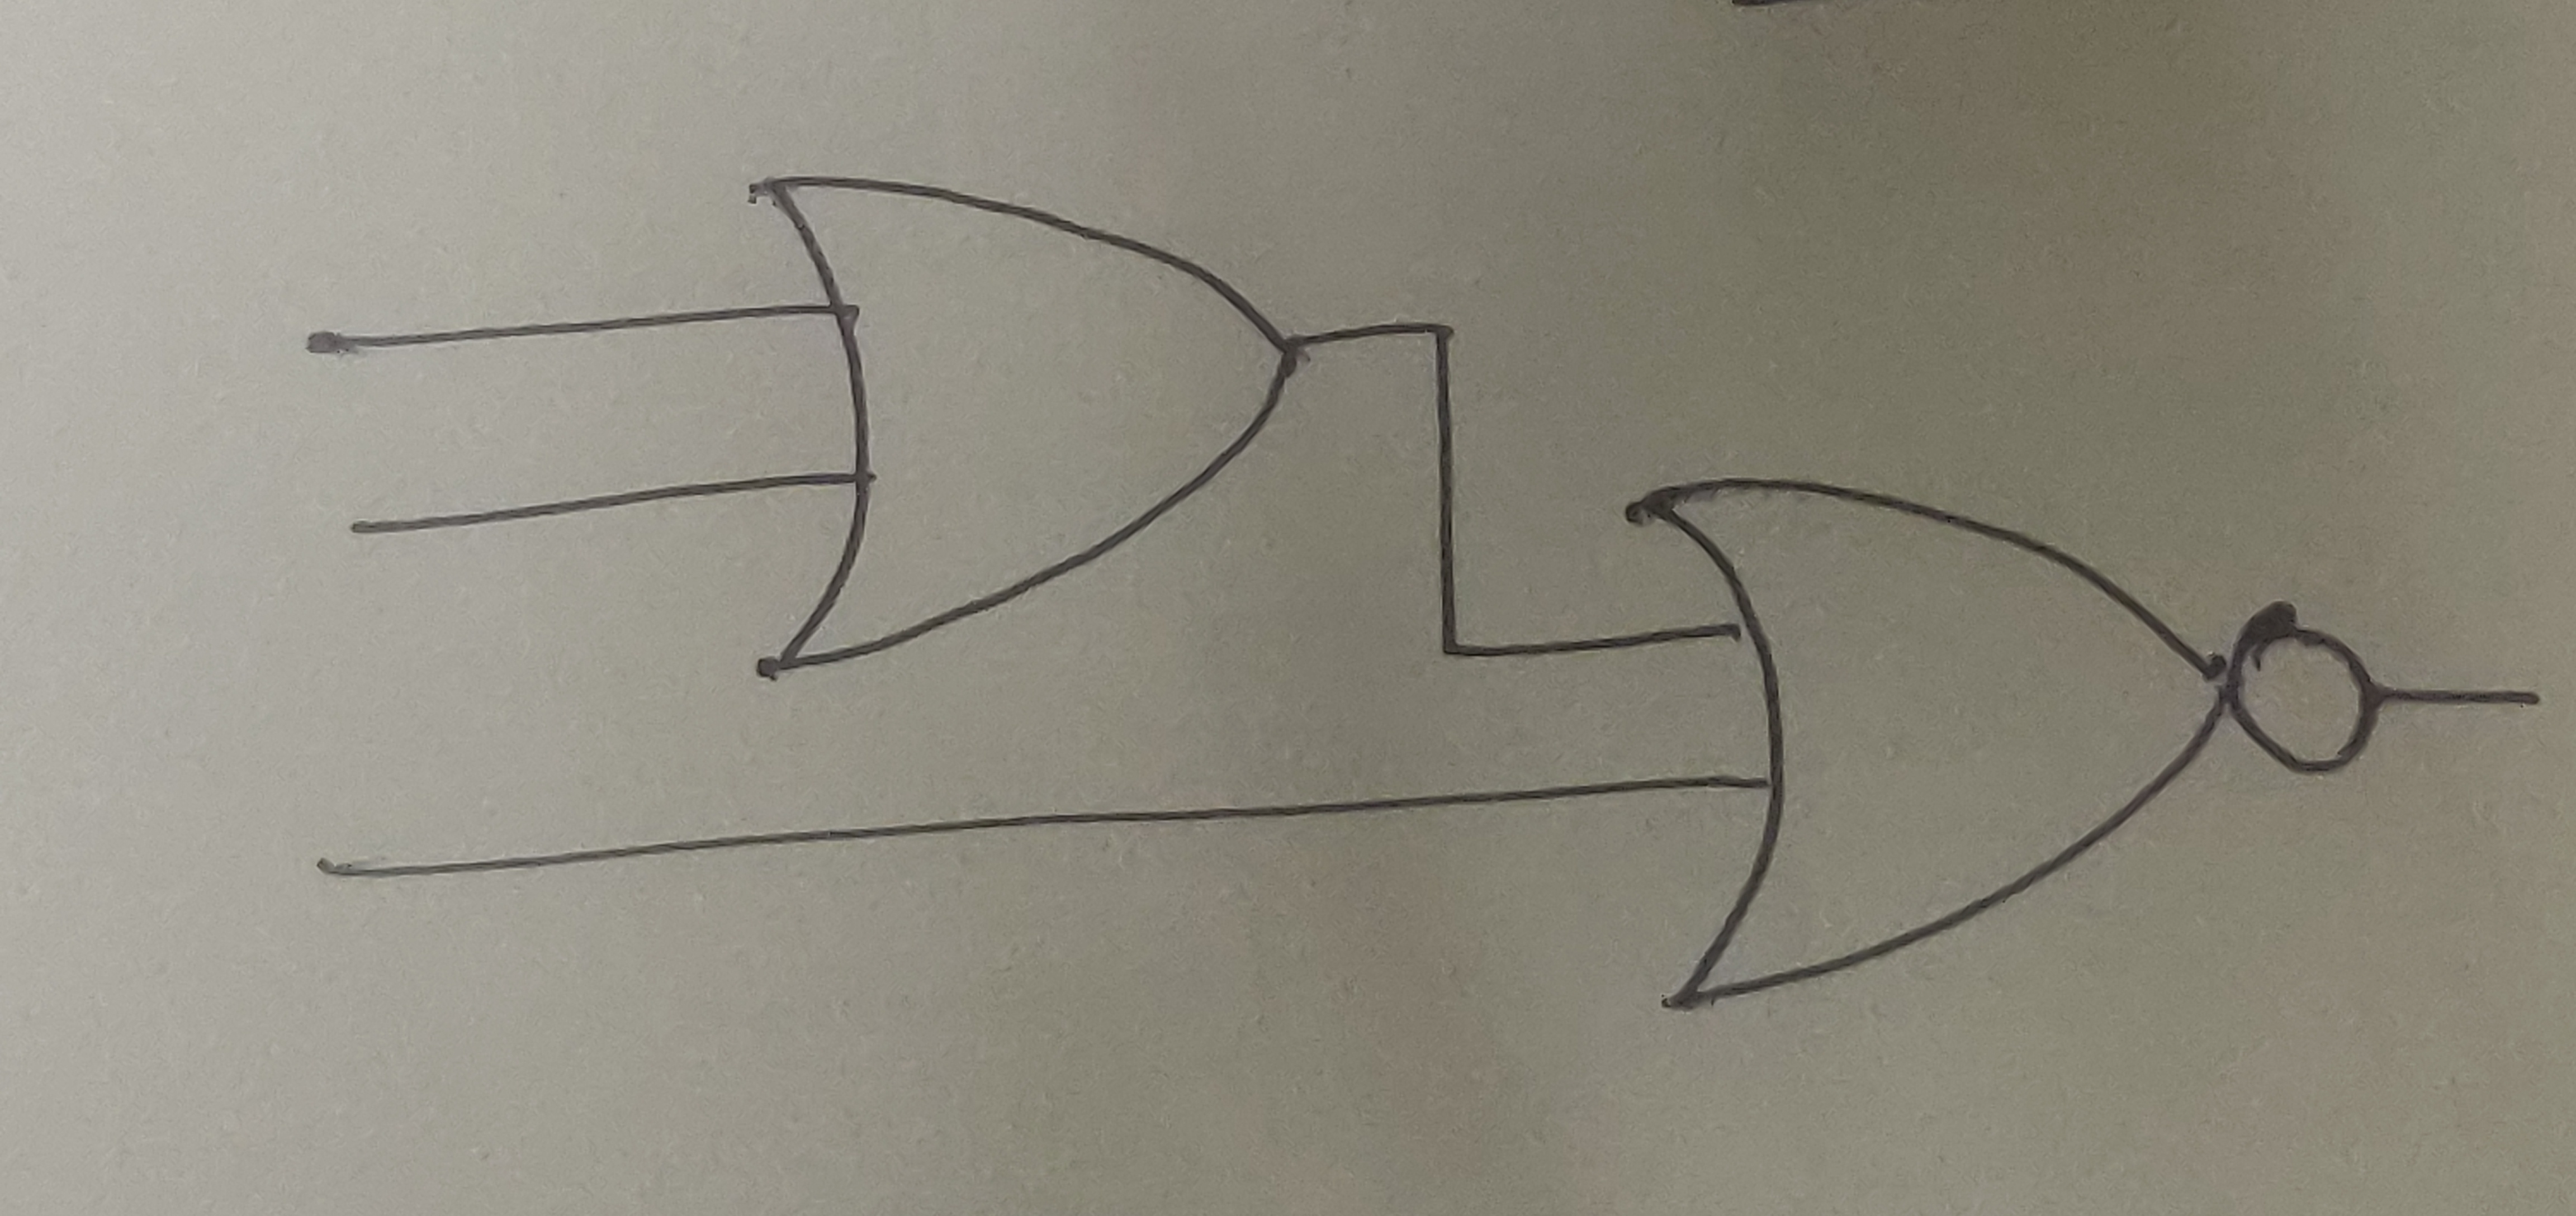not: (2228, 598, 2389, 782)
or: (1620, 473, 2231, 1012), (734, 171, 1298, 684)
